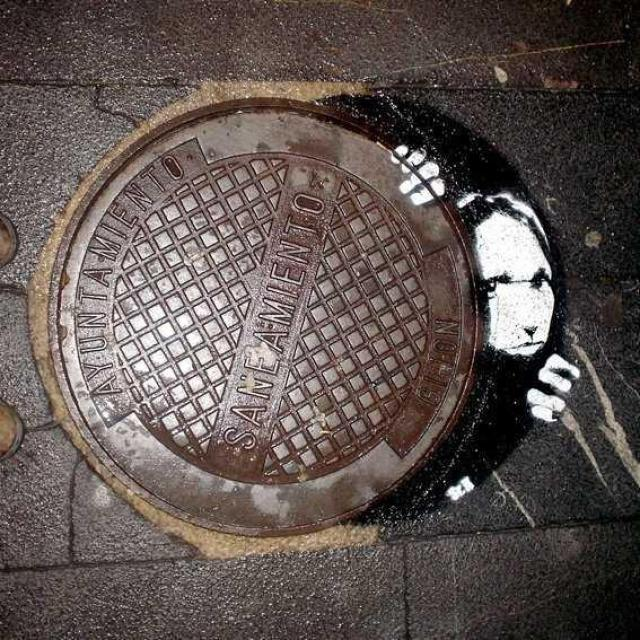manhole: (29, 98, 480, 549)
